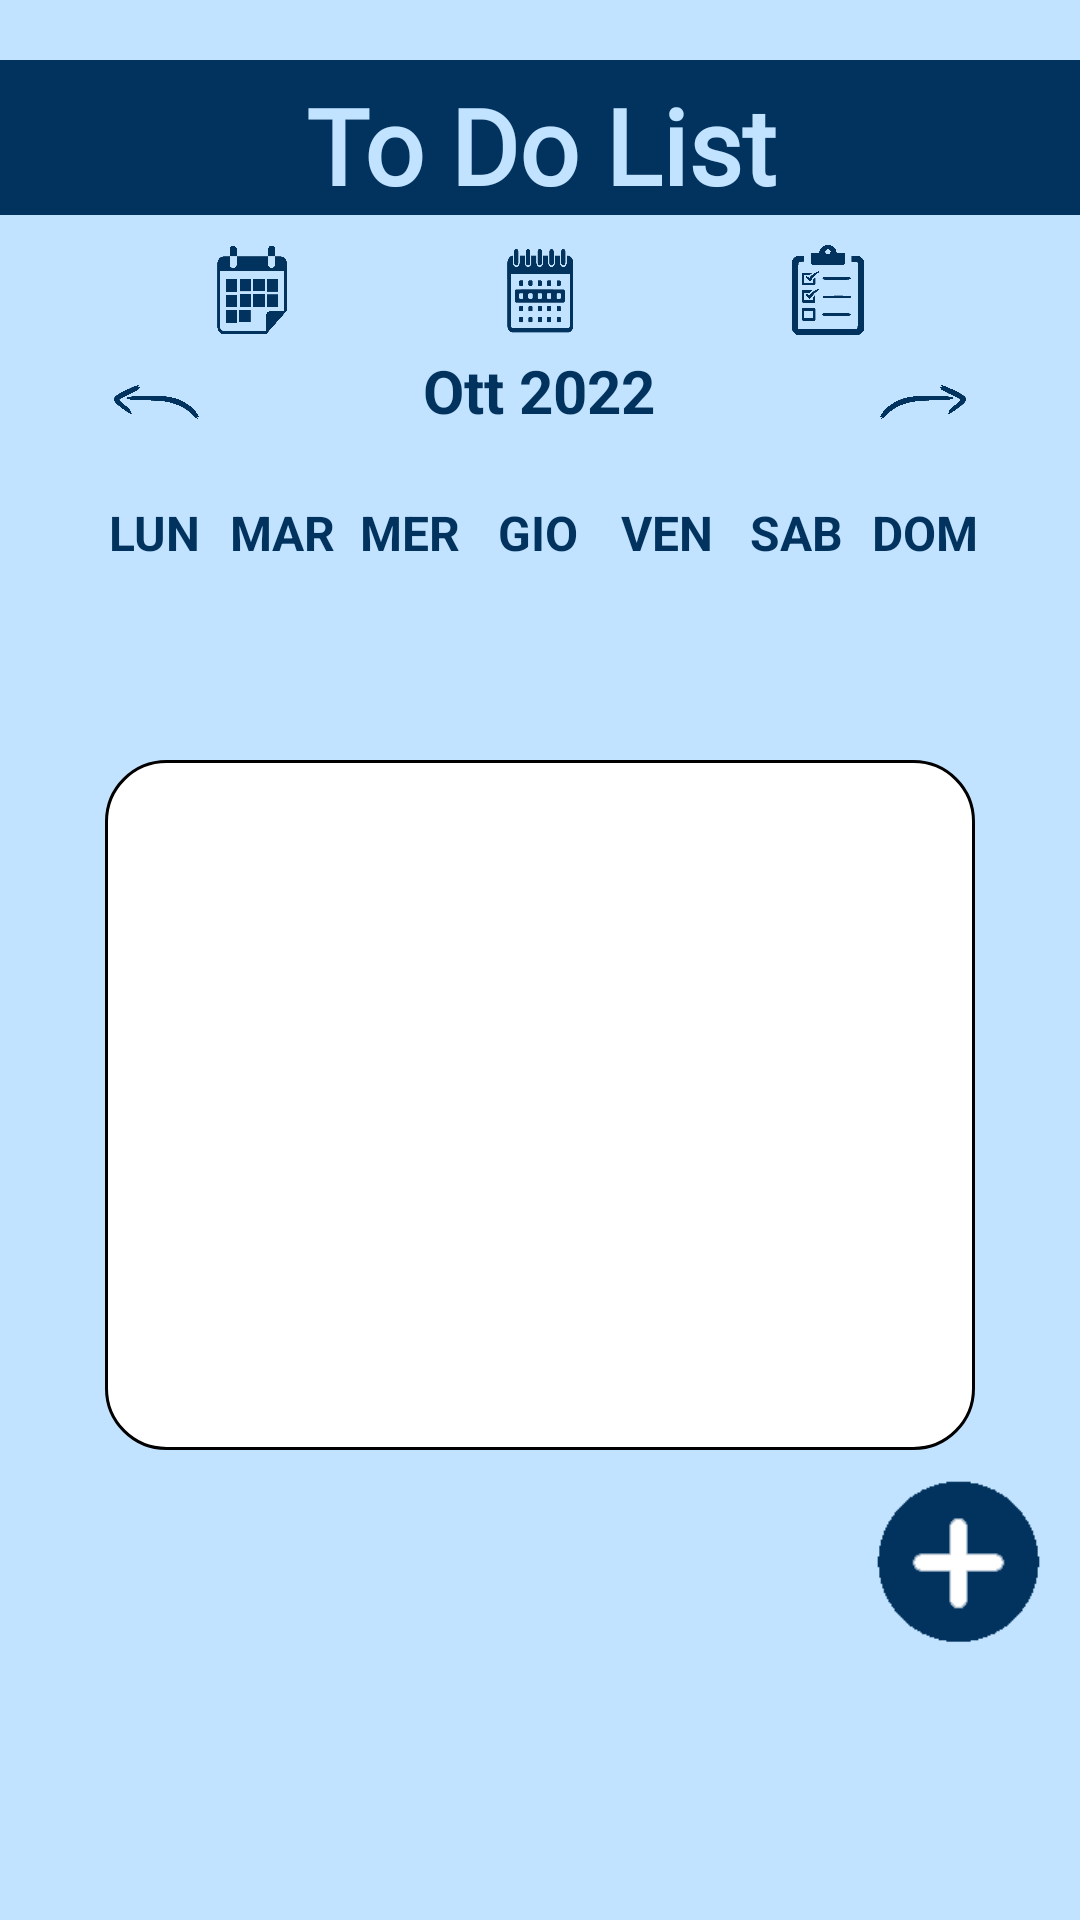

Icon click points for this 1080 × 1920 phone screenshot, format (x=x, y=y):
calendar month: (x=252, y=290)
calendar weekly: (x=540, y=291)
left arrow: (x=156, y=402)
right arrow: (x=923, y=402)
